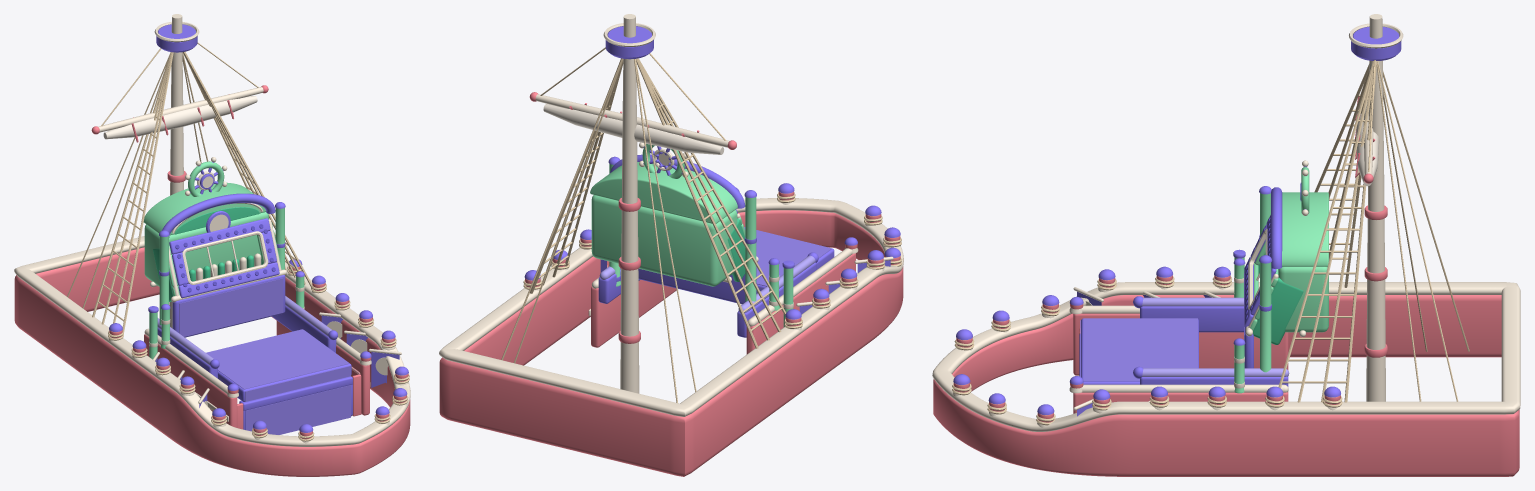
The model's file is machine.glb.
3 renders of one model, left to right at view 1: azimuth 30°, elevation 25°; view 2: azimuth 150°, elevation 25°; view 3: azimuth 270°, elevation 25°, orthographic. The views are drawn at different scales.
Visible parts, largest first — view 1: hull_pink, hull_cream, cab_lilac, dress_rope.001, hous_mint, push_lilac, cab_purple, dress_cream, cab_pink, face_purple, hull_purple, dress_canvas.001 (+13 smaller); view 2: hull_pink, hous_mint, hull_cream, dress_rope.001, dress_cream, cab_pink, cab_purple, dress_canvas.001, push_lilac, hull_purple, hull_rope, hous_purple (+6 smaller); view 3: hull_pink, hull_cream, dress_rope.001, hous_mint, push_lilac, dress_cream, cab_pink, cab_purple, hull_purple, cab_cream, cab_lavender, hull_rope (+8 smaller).
Part boxes in pixels (x1=…): hull_pink: x1=14, y1=247, x2=410, y2=476; hull_cream: x1=14, y1=236, x2=410, y2=446; cab_lilac: x1=179, y1=278, x2=350, y2=434; dress_rope.001: x1=67, y1=42, x2=312, y2=338; hous_mint: x1=143, y1=161, x2=284, y2=325; push_lilac: x1=206, y1=329, x2=350, y2=401; cab_purple: x1=148, y1=271, x2=371, y2=429; dress_cream: x1=98, y1=14, x2=263, y2=328; cab_pink: x1=144, y1=320, x2=371, y2=429; face_purple: x1=169, y1=218, x2=279, y2=298; hull_purple: x1=109, y1=259, x2=408, y2=432; dress_canvas.001: x1=103, y1=96, x2=257, y2=139; hull_pink: x1=439, y1=192, x2=903, y2=476; hous_mint: x1=590, y1=144, x2=756, y2=301; hull_cream: x1=439, y1=193, x2=903, y2=416; dress_rope.001: x1=501, y1=47, x2=786, y2=402; dress_cream: x1=535, y1=14, x2=729, y2=393; cab_pink: x1=591, y1=244, x2=857, y2=354; cab_purple: x1=598, y1=237, x2=857, y2=337; dress_canvas.001: x1=543, y1=104, x2=724, y2=154; push_lilac: x1=744, y1=227, x2=831, y2=286; hull_purple: x1=524, y1=183, x2=900, y2=319; hull_rope: x1=523, y1=192, x2=902, y2=328; hous_purple: x1=608, y1=146, x2=756, y2=281; hull_pink: x1=933, y1=275, x2=1519, y2=476; hull_cream: x1=932, y1=277, x2=1520, y2=431; dress_rope.001: x1=1278, y1=60, x2=1469, y2=402; hous_mint: x1=1260, y1=167, x2=1328, y2=372; push_lilac: x1=1080, y1=318, x2=1197, y2=381; dress_cream: x1=1349, y1=14, x2=1403, y2=401; cab_pink: x1=1070, y1=304, x2=1288, y2=413; cab_purple: x1=1069, y1=249, x2=1288, y2=386; hull_purple: x1=953, y1=266, x2=1340, y2=416; cab_cream: x1=1069, y1=277, x2=1288, y2=393; cab_lavender: x1=1142, y1=297, x2=1289, y2=376; hull_rope: x1=952, y1=276, x2=1342, y2=425.
Size of the model in its own units: 17.97 by 26.1 by 34.86.
